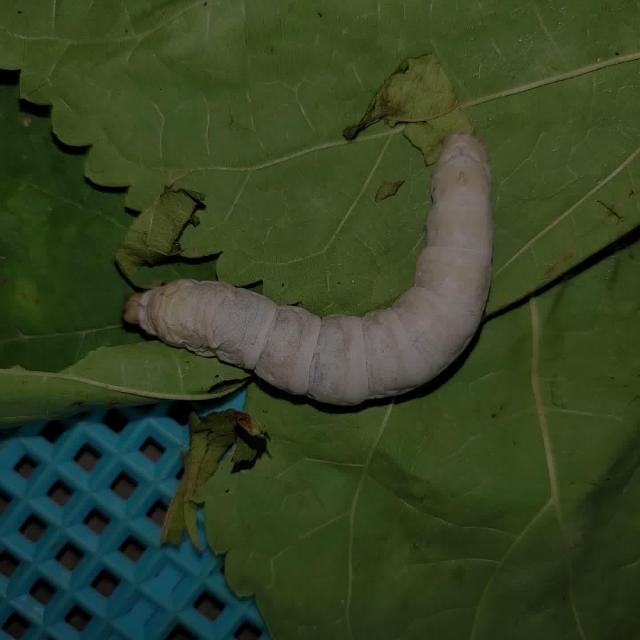Grasserie: (95, 95, 516, 454)
